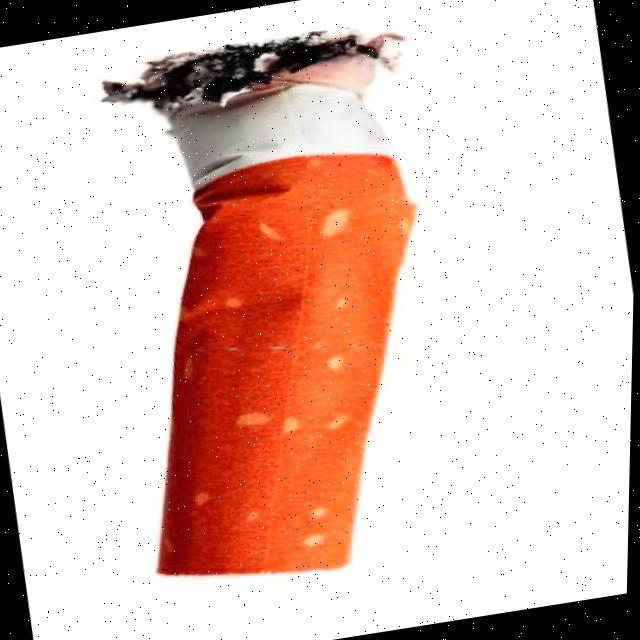cigarette: (153, 37, 417, 575)
